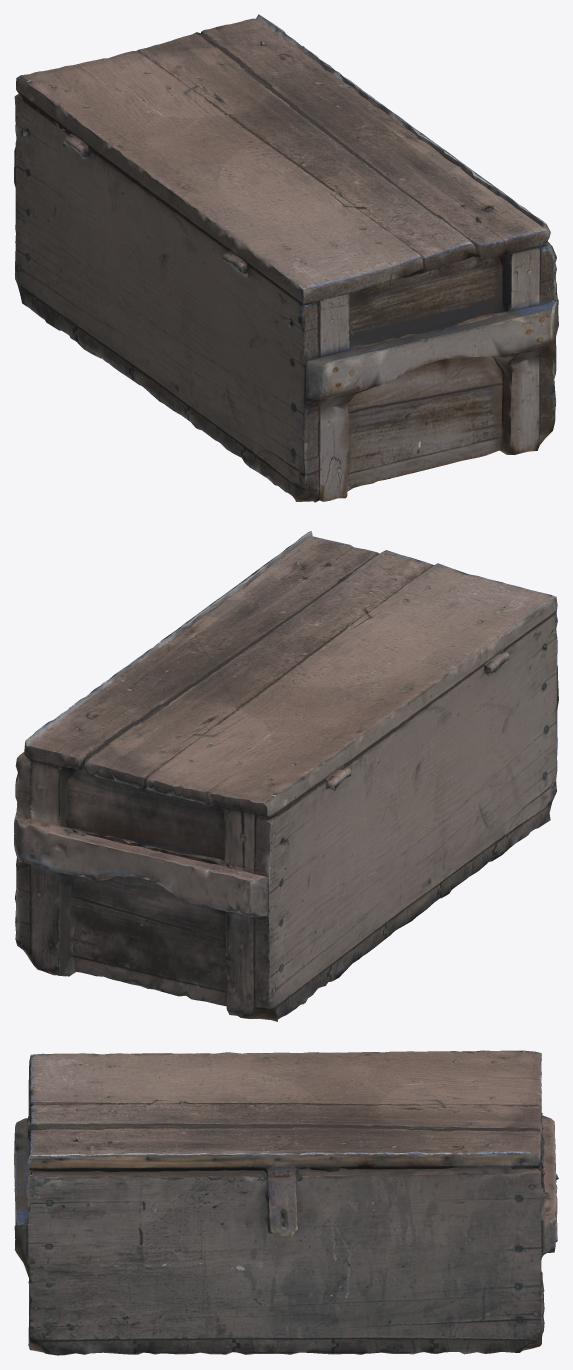
File: MOD_WoodCrateD.fbx
The picture shows the model from 3 angles, top to bottom: view 1: azimuth 30°, elevation 25°; view 2: azimuth 150°, elevation 25°; view 3: azimuth 270°, elevation 25°; orthographic projection. The views are drawn at different scales.
Parts seen in each view (by area): view 1: MOD_WoodCrateD; view 2: MOD_WoodCrateD; view 3: MOD_WoodCrateD.
Part boxes in pixels (bbox=[...]): MOD_WoodCrateD: bbox=[14, 14, 558, 502]; MOD_WoodCrateD: bbox=[14, 531, 558, 1021]; MOD_WoodCrateD: bbox=[14, 1050, 558, 1355].
Size of the model in its own units: 40.97 by 31.96 by 76.19.
